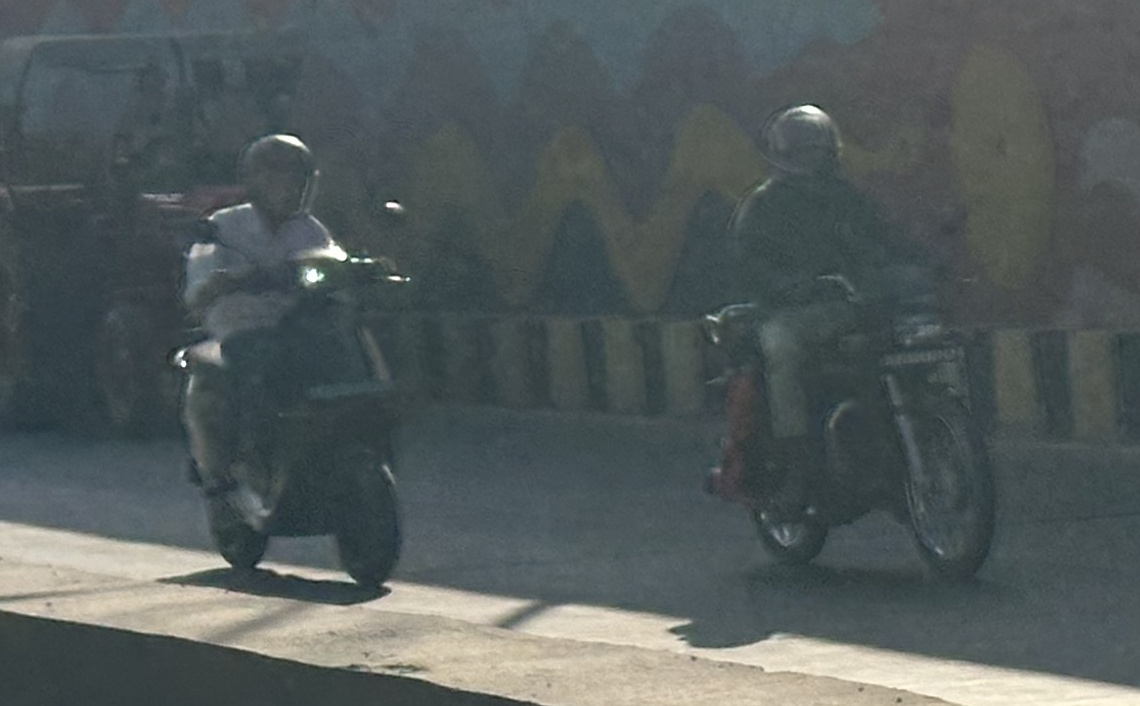BikeWithRider: (683, 90, 1018, 597), (156, 121, 434, 596)
Helmet: (745, 93, 858, 187), (226, 124, 328, 221)
